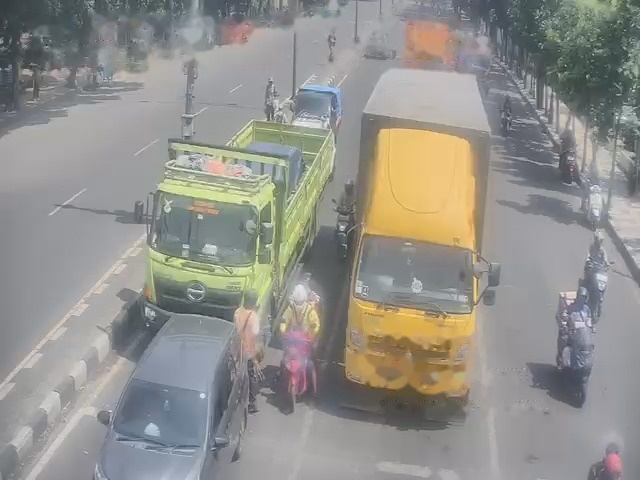Mobil: (100, 308, 241, 480), (365, 27, 394, 60)
Motor: (289, 84, 342, 142), (281, 330, 314, 411), (584, 262, 611, 323), (560, 316, 590, 370), (332, 199, 354, 260), (560, 362, 590, 406), (588, 442, 622, 479), (586, 185, 603, 230), (559, 150, 580, 185), (273, 98, 285, 123), (501, 110, 511, 135), (328, 49, 333, 61)
Truk: (354, 72, 485, 422), (142, 120, 336, 326)
